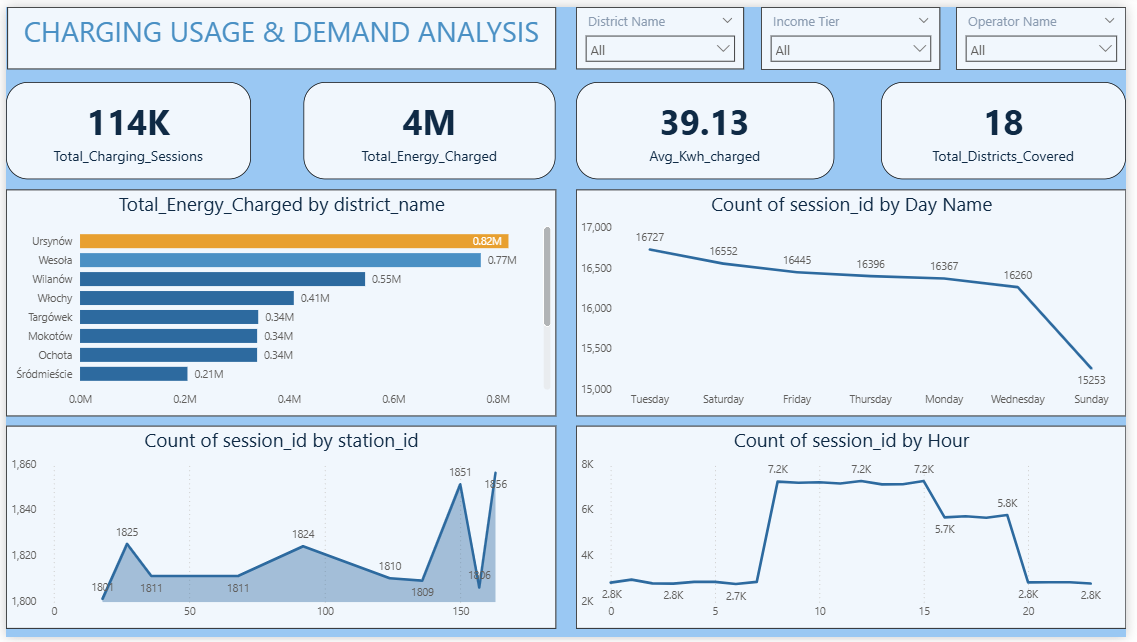

What the dashboard file says about the page in this screenshot:
{"tool":"powerbi","page":{"name":"Charging usage and Demand","canvas":[1280,720],"ordinal":1},"visuals":[{"type":"card","fields":{"Values":["a.Total_Charging_Sessions"]},"box":[0,85.4,280,110.8],"z":0},{"type":"card","fields":{"Values":["a.Total_Energy_Charged"]},"box":[340.3,85.1,288.2,111.1],"z":1000},{"type":"card","fields":{"Values":["a.Avg_Kwh_charged"]},"box":[651.8,85.1,295,111.1],"z":2000},{"type":"clusteredBarChart","fields":{"Category":["districts.district_name"],"Y":["a.Total_Energy_Charged"]},"box":[0,208.1,628.9,259.1],"z":3000},{"type":"areaChart","fields":{"Category":["charging_station.station_id"],"Y":["CountNonNull(charging_sessions.session_id)"]},"box":[0,478.9,628.5,231.9],"z":4000},{"type":"lineChart","fields":{"Category":["charging_sessions.Hour"],"Y":["CountNonNull(charging_sessions.session_id)"]},"box":[651.8,478.9,628.5,231.9],"z":5000},{"type":"lineChart","fields":{"Category":["charging_sessions.Day Name"],"Y":["CountNonNull(charging_sessions.session_id)"]},"box":[651.4,208.1,628.9,259.1],"z":6000},{"type":"card","fields":{"Values":["a.Total_Districts_Covered"]},"box":[1000.3,85.1,279.9,111.1],"z":7000},{"type":"slicer","fields":{"Values":["charging_station.operator_name"]},"box":[1085.3,0,194.7,71.9],"z":8000},{"type":"slicer","fields":{"Values":["customers.income_tier"]},"box":[862.5,0,205.1,71.9],"z":9000},{"type":"slicer","fields":{"Values":["districts.district_name"]},"box":[651.8,0,192.1,71.4],"z":10000},{"type":"textbox","box":[1.4,0,627.1,71.4],"z":11000}]}

Visuals, with their boxes in screenshot pixels (x1, y1, x2, y2), scaled from the page's 1280x720 canvas onto the 1137x642 screenshot:
card - a.Total_Charging_Sessions: <region>0, 76, 249, 175</region>
card - a.Total_Energy_Charged: <region>302, 76, 558, 175</region>
card - a.Avg_Kwh_charged: <region>579, 76, 841, 175</region>
clusteredBarChart - districts.district_name x a.Total_Energy_Charged: <region>0, 186, 559, 417</region>
areaChart - charging_station.station_id x CountNonNull(charging_sessions.session_id): <region>0, 427, 558, 634</region>
lineChart - charging_sessions.Hour x CountNonNull(charging_sessions.session_id): <region>579, 427, 1136, 634</region>
lineChart - charging_sessions.Day Name x CountNonNull(charging_sessions.session_id): <region>579, 186, 1136, 417</region>
card - a.Total_Districts_Covered: <region>889, 76, 1136, 175</region>
slicer - charging_station.operator_name: <region>964, 0, 1136, 64</region>
slicer - customers.income_tier: <region>766, 0, 948, 64</region>
slicer - districts.district_name: <region>579, 0, 750, 64</region>
textbox: <region>1, 0, 558, 64</region>
